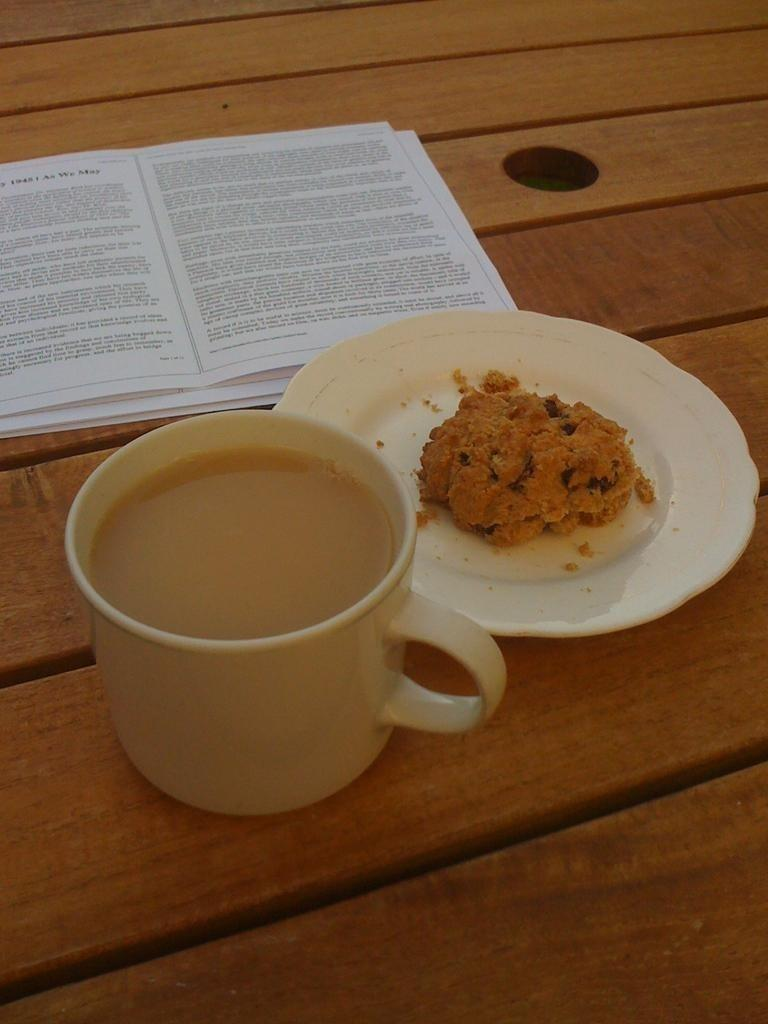cup-handle: (65, 407, 507, 823)
